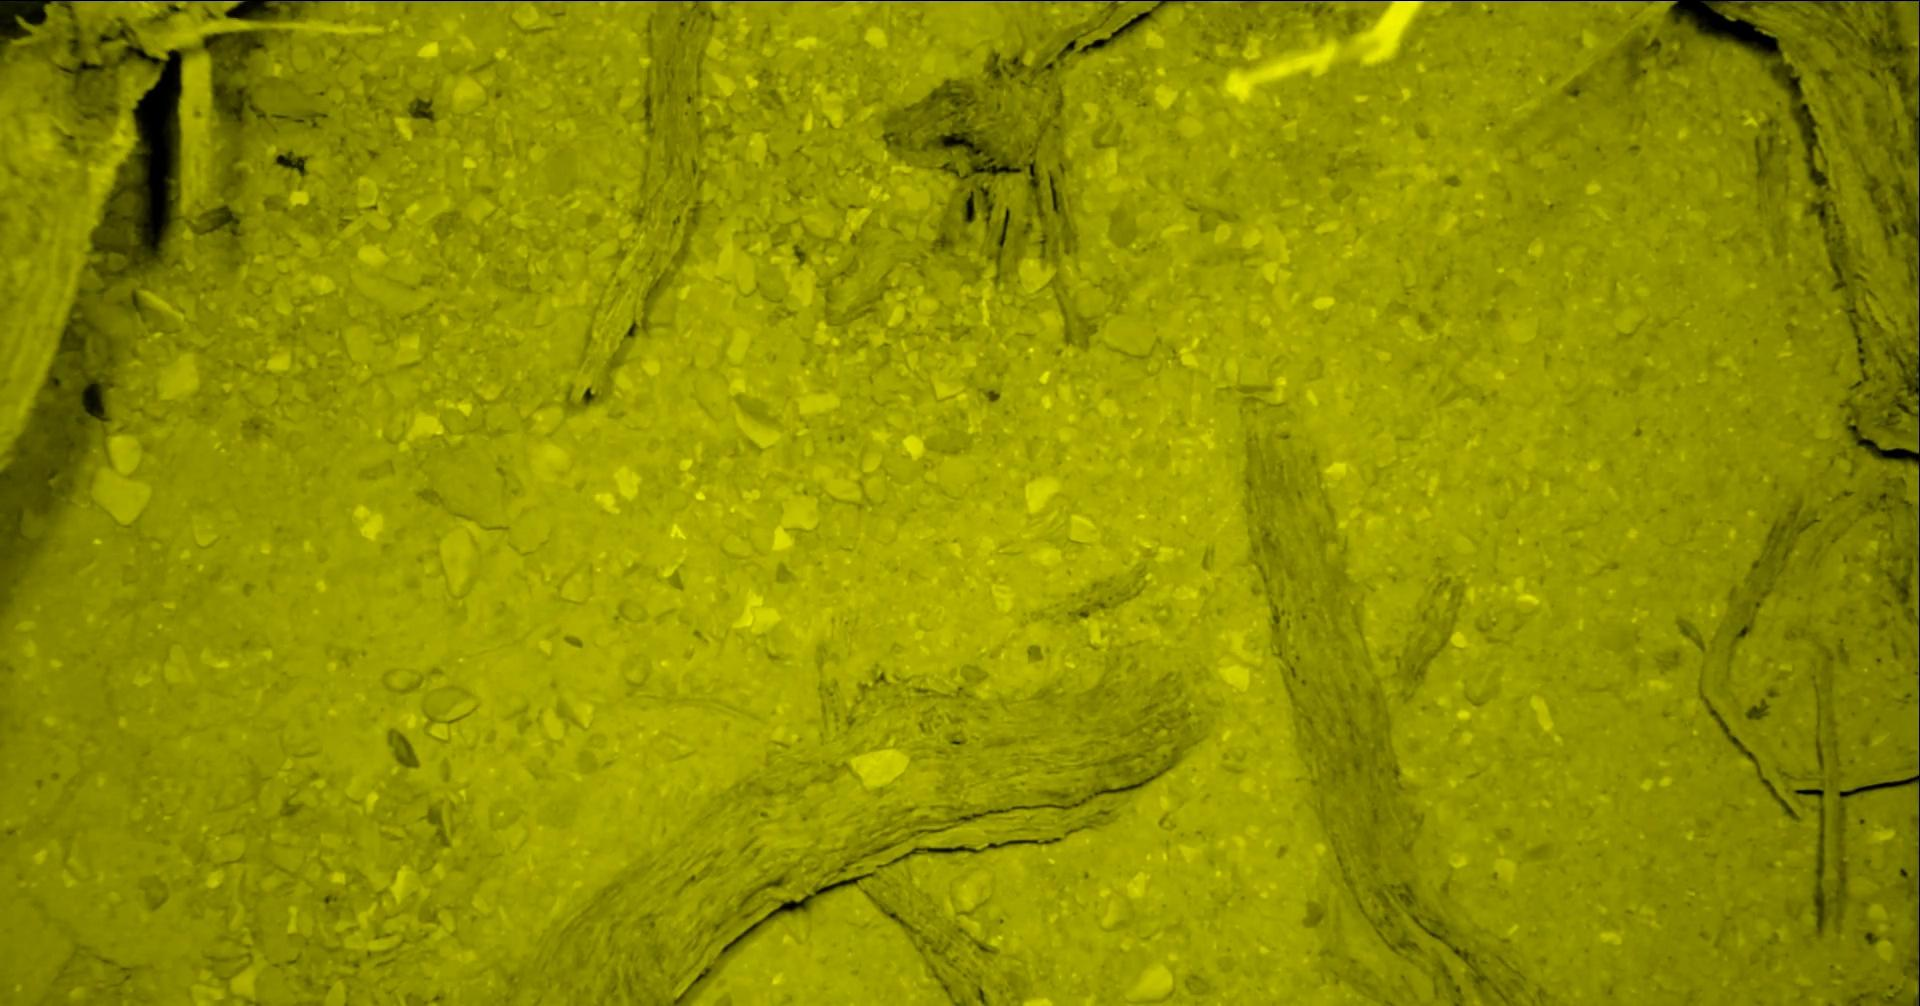ant: (1730, 0, 1920, 24), (1919, 782, 1920, 934), (270, 0, 321, 1)
